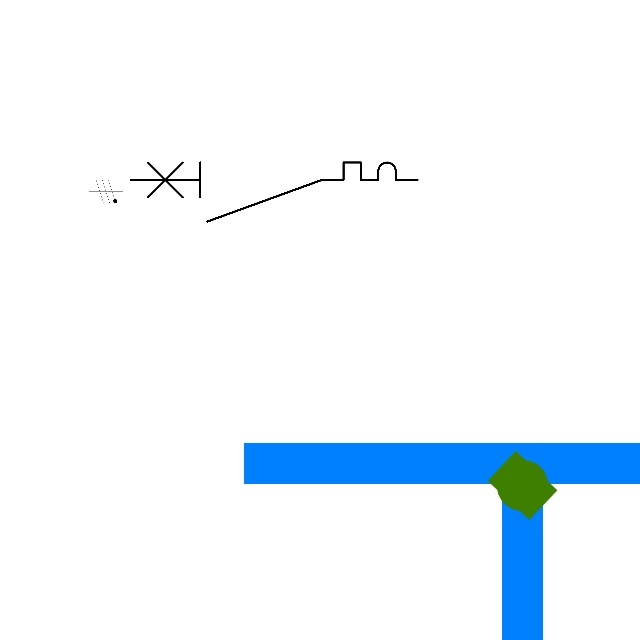interruptor_termomagnetico: (123, 155, 425, 229)
